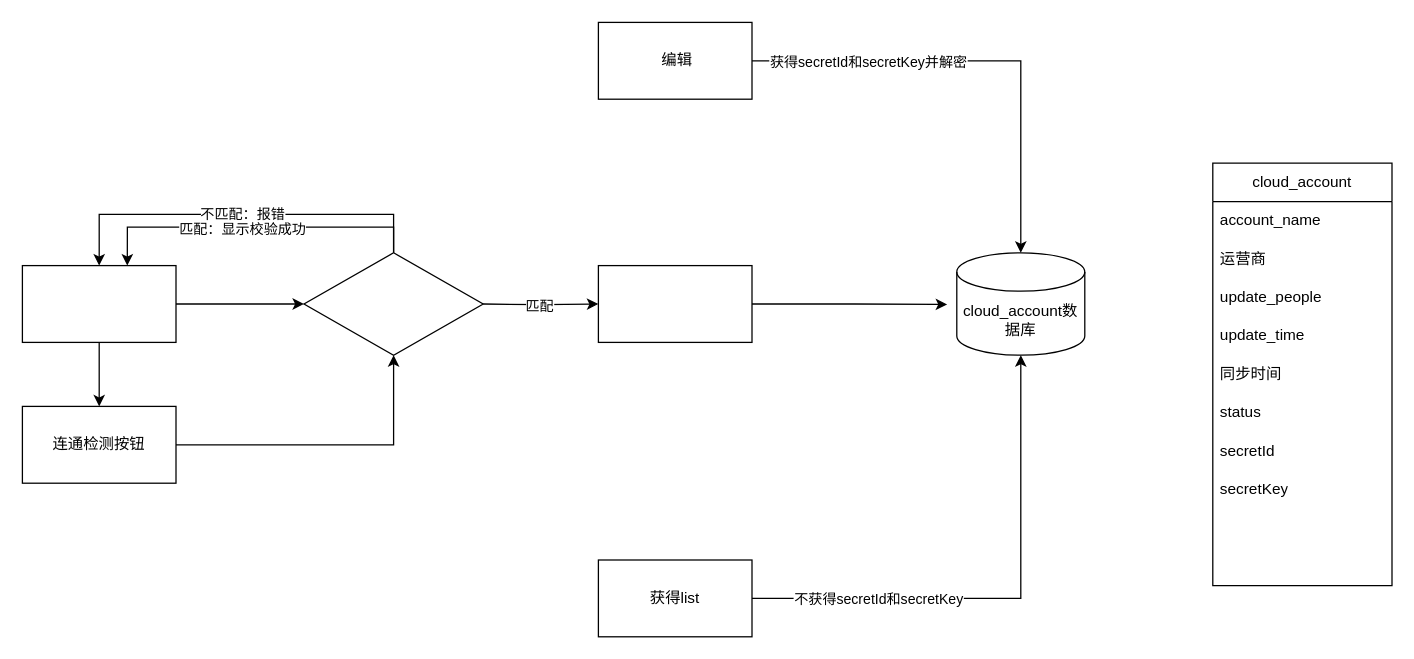
The diagram is 1414 pixels wide and 659 high, and some of its shapes have lost their labels. Each missing label, with the centre of its shape:
"前端输入ID/KEY" goes at (x=98, y=303).
"加密ID/KEY" goes at (x=674, y=303).
"校验ID/KEY是否匹配" goes at (x=393, y=303).
